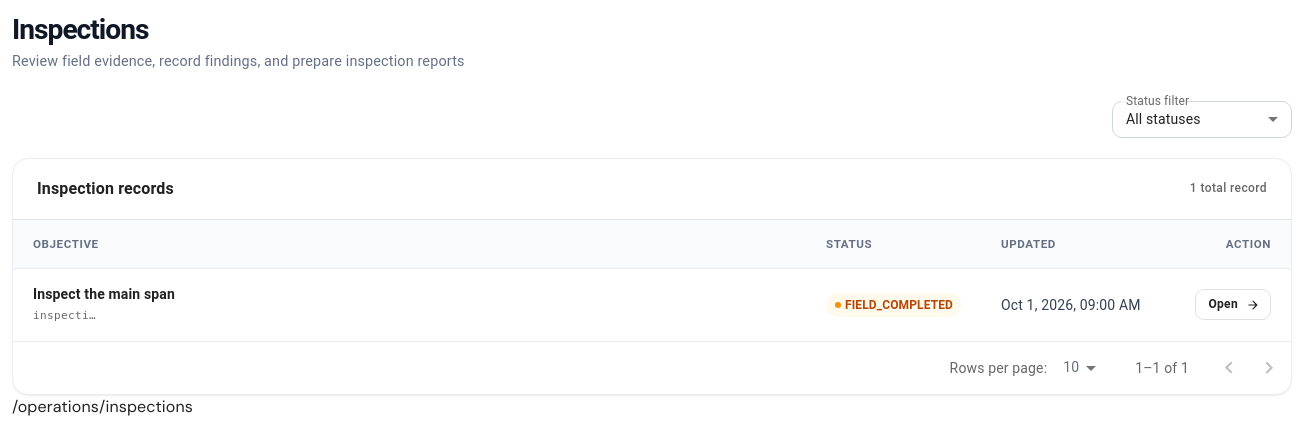
InspectionsPage › opens an inspection at Step 1 when a row is chosen
Click the row "Inspect the main span". click: (104, 294)
box: x1=13 y1=269 x2=1291 y2=341
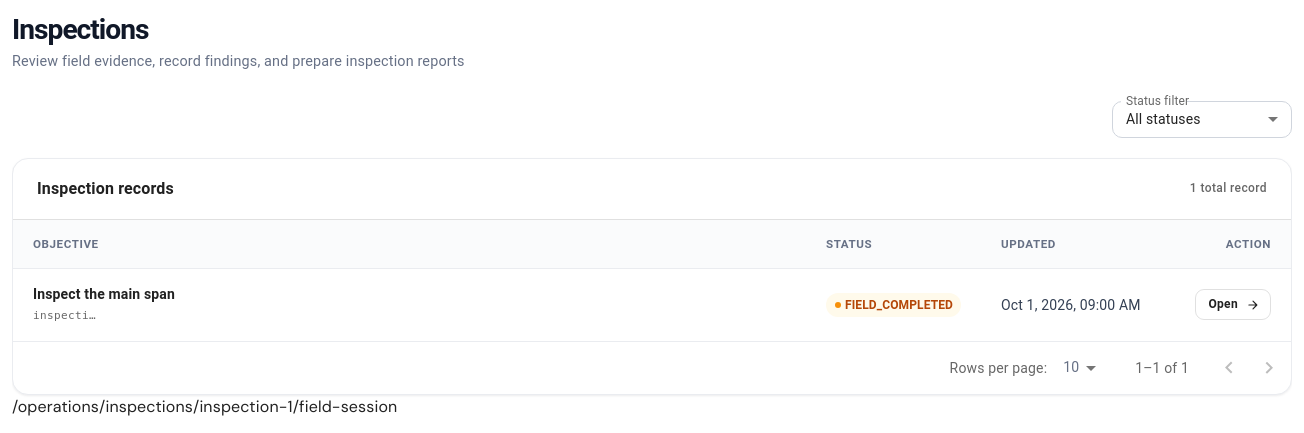
expect the text with test id "location" reads "/operations/inspections/inspection-1/field-session": met, box x1=12 y1=396 x2=397 y2=417
